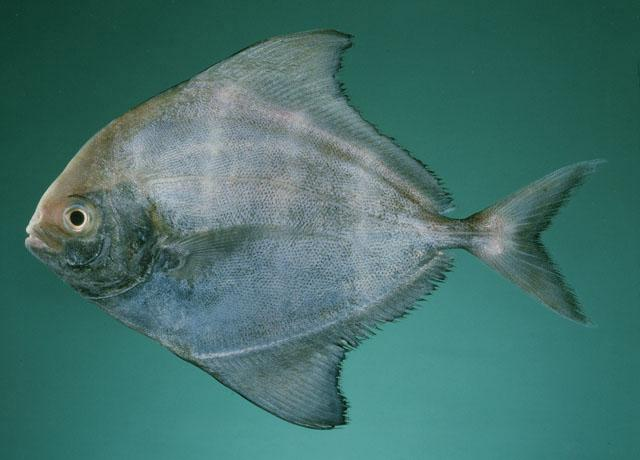Mulut: (0, 182, 78, 294)
Sirip Anal: (338, 244, 460, 348)
Sirip Dada: (131, 214, 357, 274)
Sirip Ekor: (480, 146, 616, 346)
Sirip Perut: (194, 342, 366, 444)
Sirip Punggung: (183, 19, 459, 219)
